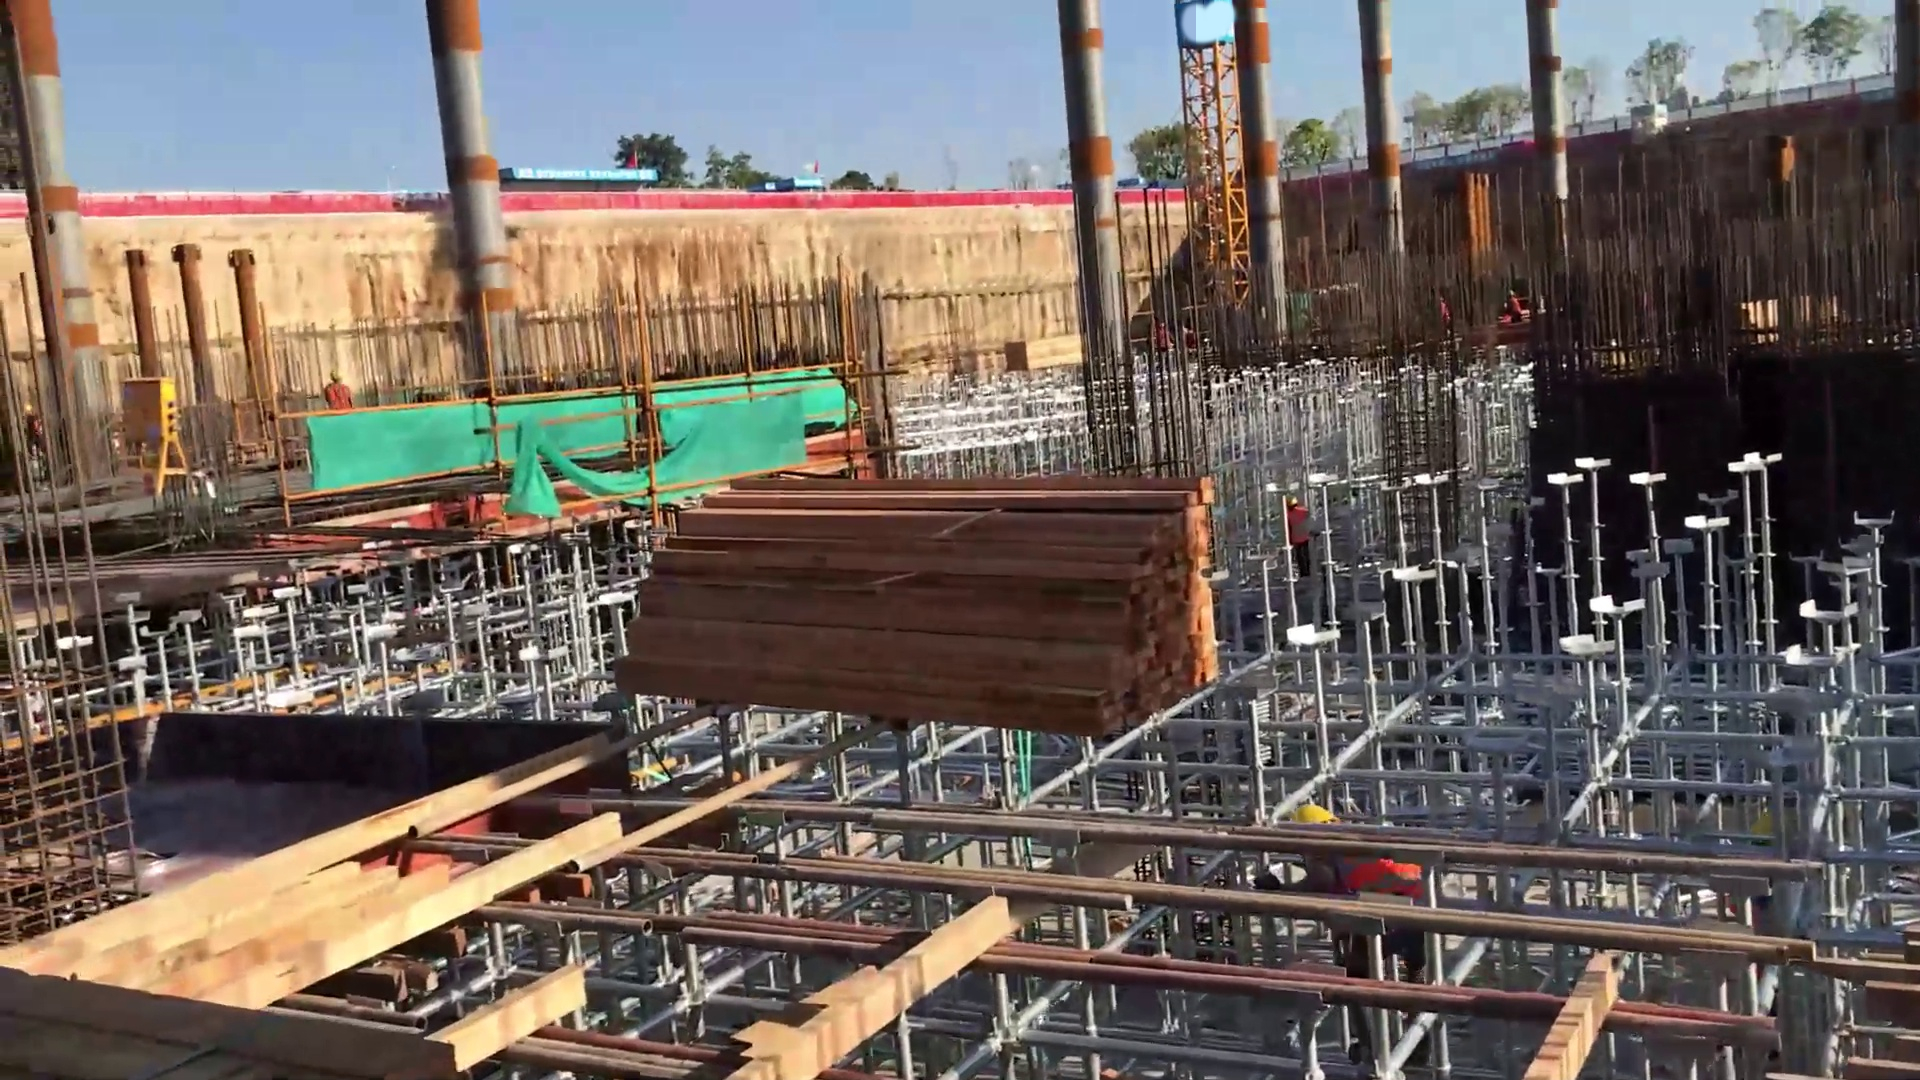ebox: (120, 372, 200, 491)
helmet: (1278, 789, 1350, 841)
vest: (1316, 837, 1437, 914)
wood: (597, 450, 1279, 738)
